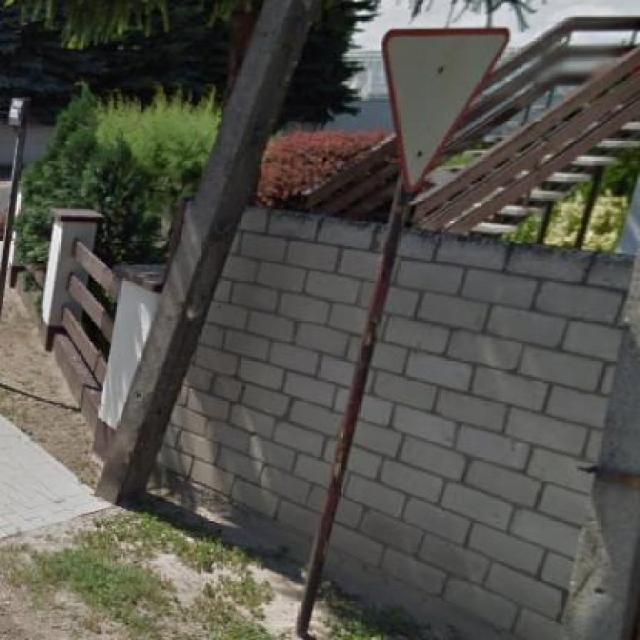Ustap pierwszenstwa: (381, 25, 513, 193)
